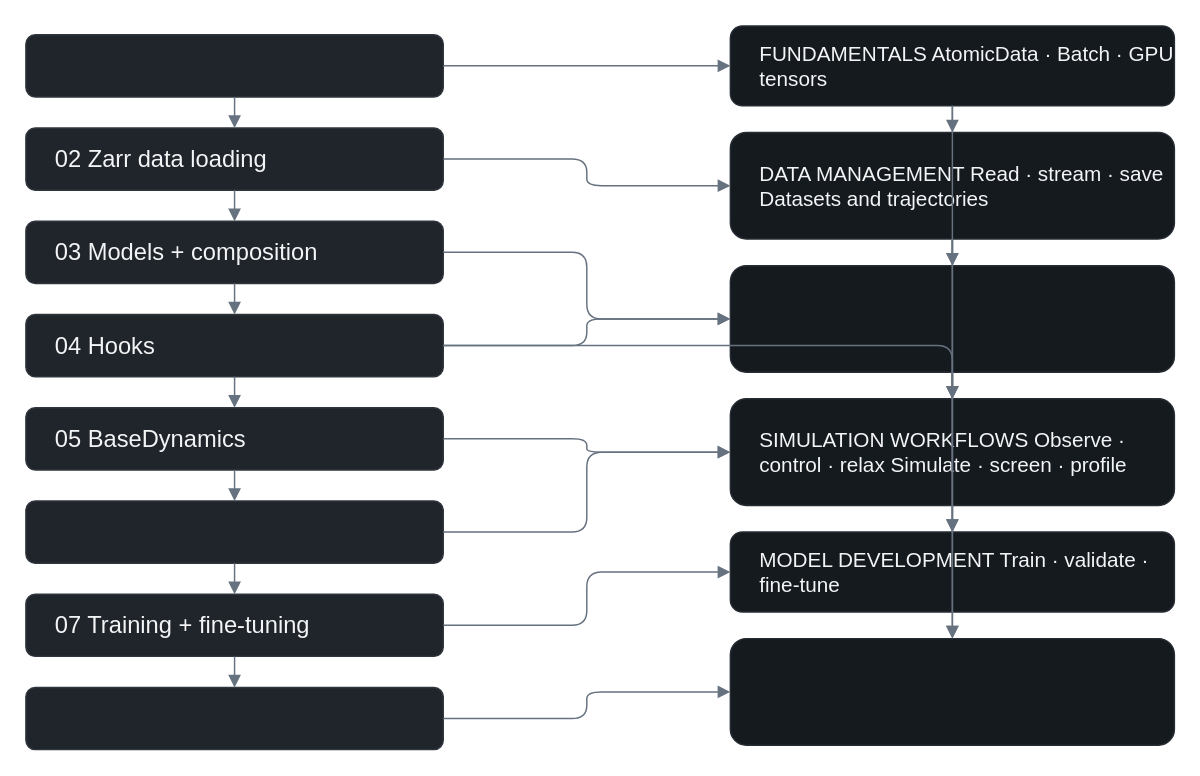
Some shapes in this 1200 by 776 pixel diagram are drawn without their labels. Each missing label, with the box of its shape:
01 AtomicData + Batch: (24, 33, 443, 97)
06 GPU pipelines + profiling: (24, 500, 443, 563)
08 Domain decomposition: (24, 686, 443, 750)
MODELS + POTENTIALS Use MLIPs · wrap custom models Compose physical terms: (729, 264, 1174, 372)
MULTI-GPU EXECUTION Domain decomposition Large systems across GPUs: (729, 637, 1174, 745)
